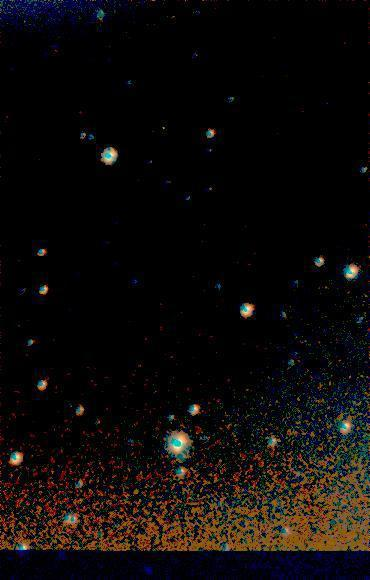star: (148, 112, 178, 142)
